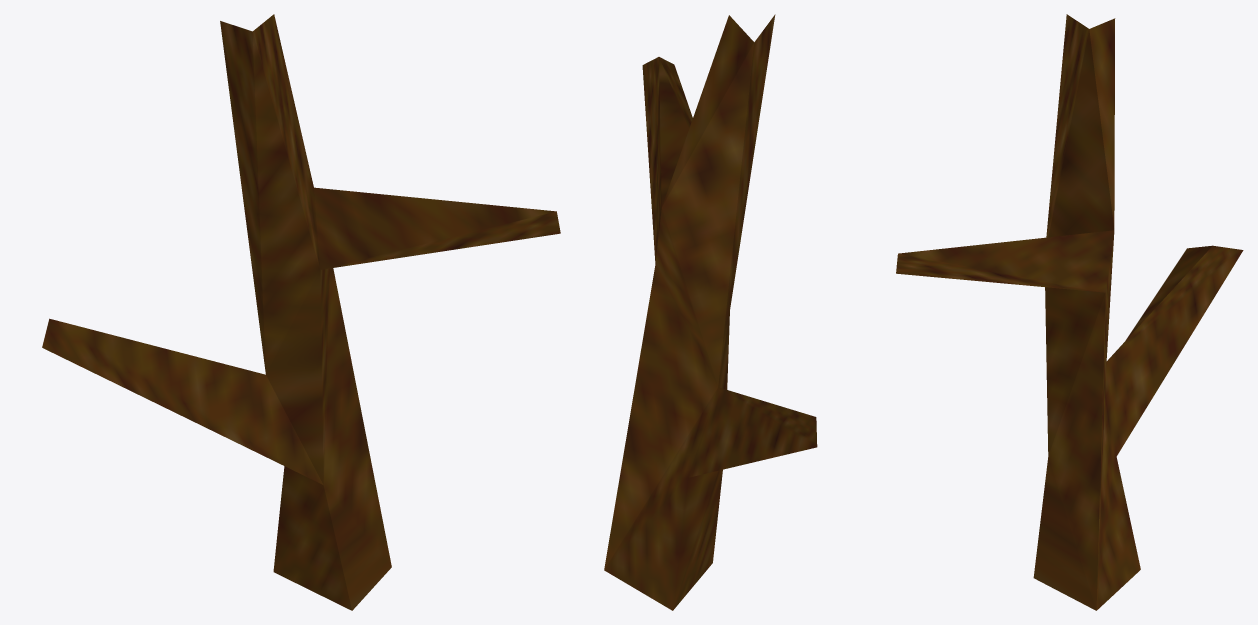
Rendered from treebranch04.glb.
3 views of the same model, side by side, from view 1: azimuth 30°, elevation 25°; view 2: azimuth 150°, elevation 25°; view 3: azimuth 270°, elevation 25° (orthographic). The views are drawn at different scales.
Parts seen in each view (by area): view 1: treebranch04; view 2: treebranch04; view 3: treebranch04.
Boxes of the visible parts, x1,y1,x2,y2 form: treebranch04: (42, 14, 560, 610); treebranch04: (604, 14, 817, 610); treebranch04: (896, 14, 1243, 610).
Bounding box in the file's own units: 434 × 652 × 406.
1 material, 1 textured.
